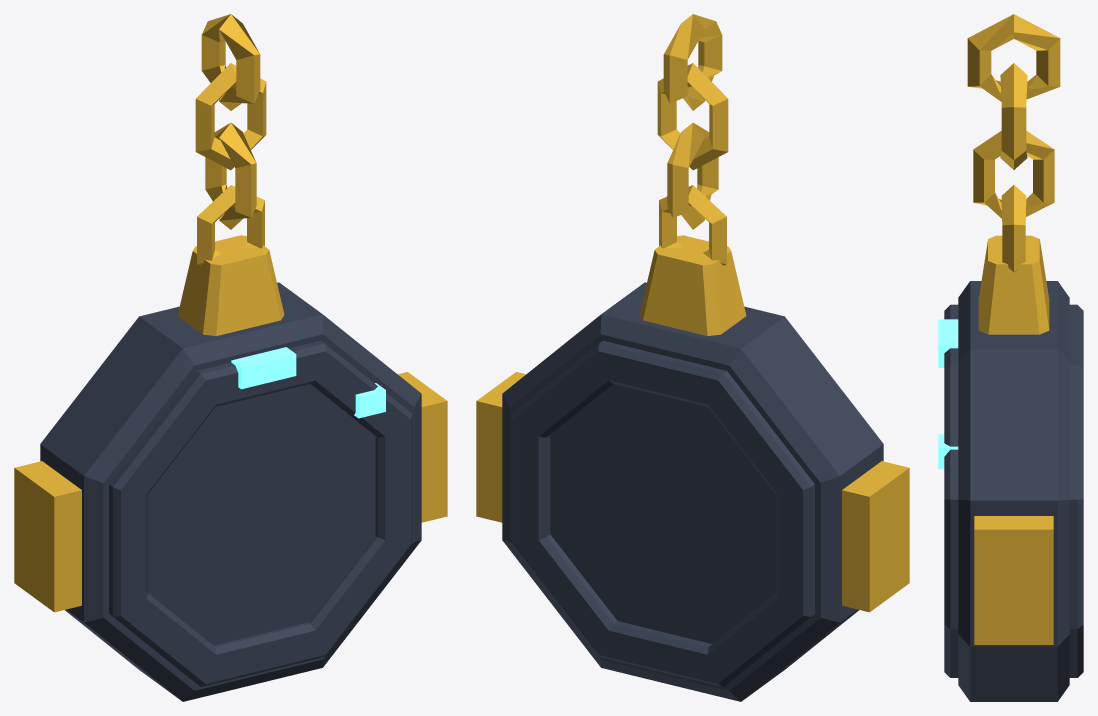
The model's file is KillRadar.fbx.
3 views of the same model, side by side, from view 1: azimuth 30°, elevation 25°; view 2: azimuth 150°, elevation 25°; view 3: azimuth 270°, elevation 25° (orthographic).
Parts seen in each view (by area): view 1: Body_Radar_Body, Screen, Body_Radar_Gold, Chain, Neon; view 2: Body_Radar_Body, Body_Radar_Gold, Chain; view 3: Body_Radar_Body, Body_Radar_Gold, Chain, Neon.
Part boxes in pixels (left/top/right/bottom): Body_Radar_Body: left=40, top=282, right=421, bottom=701; Screen: left=148, top=384, right=375, bottom=645; Body_Radar_Gold: left=14, top=185, right=447, bottom=612; Chain: left=195, top=14, right=266, bottom=229; Neon: left=231, top=347, right=385, bottom=418; Body_Radar_Body: left=502, top=282, right=883, bottom=701; Body_Radar_Gold: left=476, top=185, right=909, bottom=612; Chain: left=657, top=14, right=728, bottom=229; Body_Radar_Body: left=944, top=281, right=1083, bottom=701; Body_Radar_Gold: left=974, top=185, right=1053, bottom=644; Chain: left=967, top=14, right=1060, bottom=218; Neon: left=938, top=319, right=958, bottom=469.
Bounding box in the file's own units: 0.228 × 0.3629 × 0.073.
